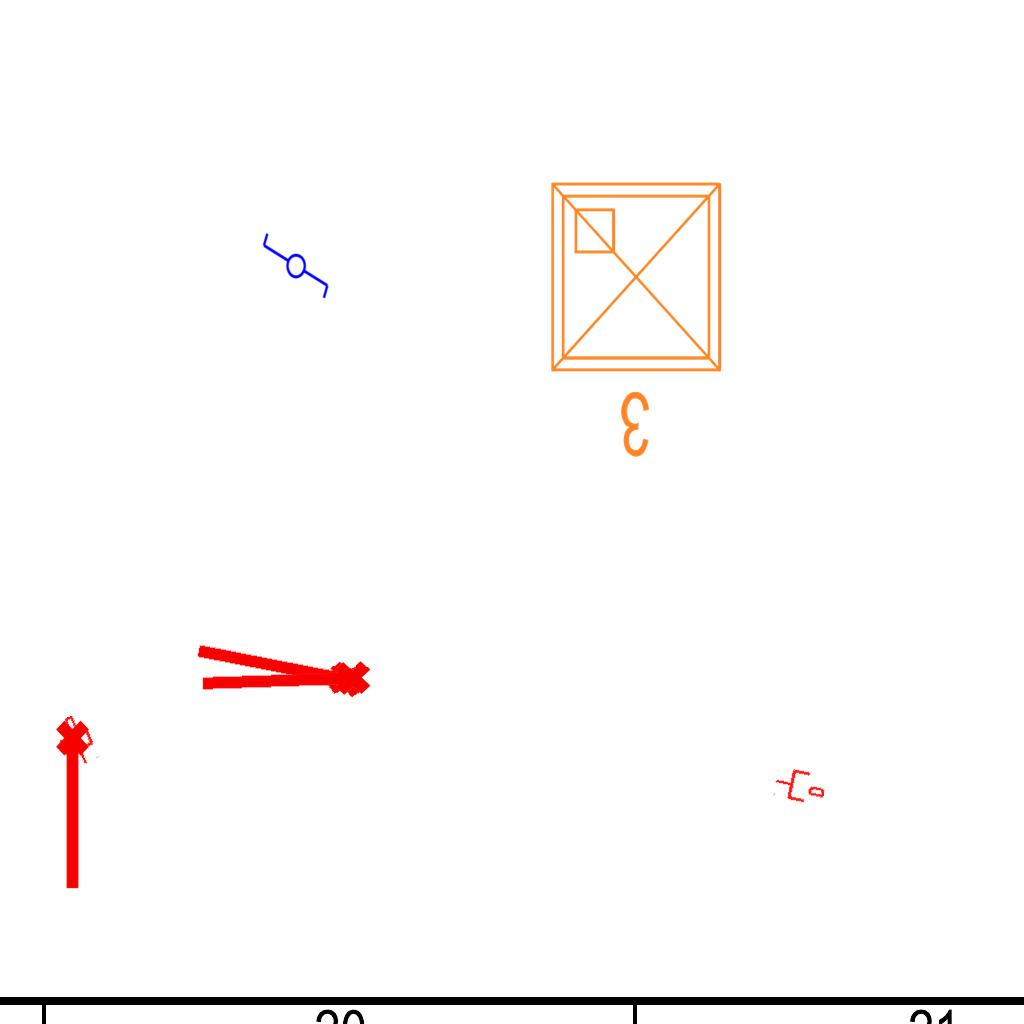ASR_Ansaugoeffnung: (188, 629, 370, 709), (196, 656, 374, 710), (52, 718, 98, 894)
Datenanschluss_einfach: (50, 711, 102, 771), (772, 764, 828, 808)
Einbaudownlights_LED_Konferenzraeume: (536, 168, 744, 468)
Wechselschalter: (259, 231, 331, 309)
